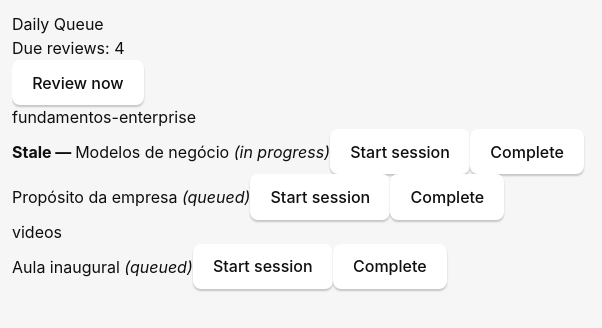
Test: Home screen (Daily Queue) › starts a session on a chunk and swaps the button to stop
Click the button with aria-label "Start session Modelos de negócio".
click(400, 152)  # box [330,129,470,174]
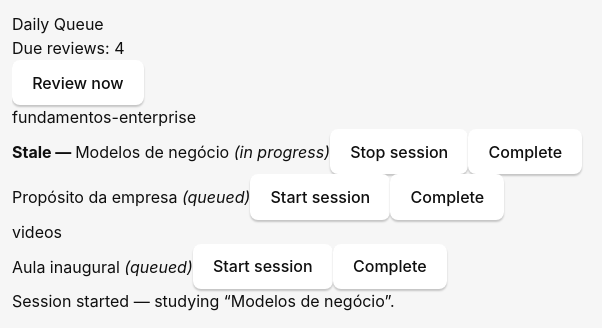
Expected: the message reads "Session started — studying “Modelos de negócio”.", [12,291,394,311]
Click the button "Stop session".
click(399, 152)  # box [330,129,468,174]
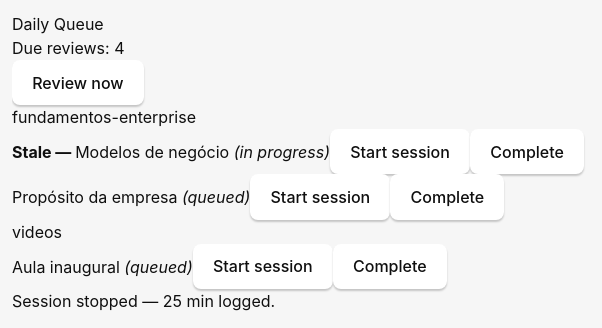
Expected: the message reads "Session stopped — 25 min logged.", [12,291,275,311]
